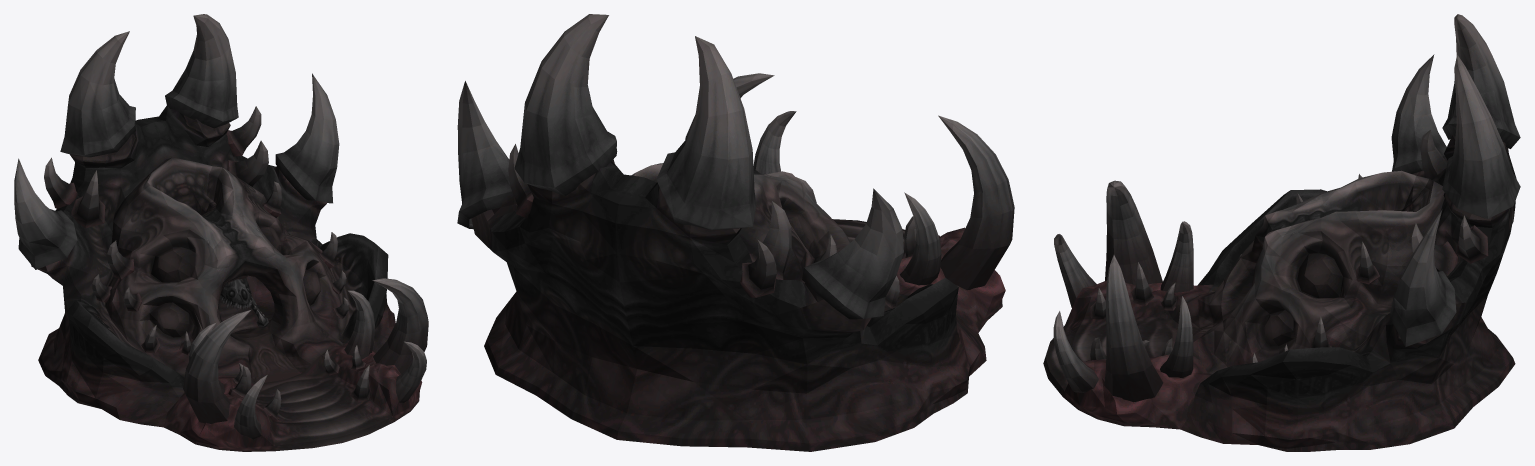
File: Warren.obj
3 views of the same model, side by side, from view 1: azimuth 30°, elevation 25°; view 2: azimuth 150°, elevation 25°; view 3: azimuth 270°, elevation 25° (orthographic). The views are drawn at different scales.
Parts seen in each view (by area): view 1: SoA_Roach_Warren.m3.001; view 2: SoA_Roach_Warren.m3.001; view 3: SoA_Roach_Warren.m3.001.
Boxes of the visible parts, left/top/right/bottom form: SoA_Roach_Warren.m3.001: left=14, top=14, right=428, bottom=451; SoA_Roach_Warren.m3.001: left=457, top=14, right=1014, bottom=451; SoA_Roach_Warren.m3.001: left=1043, top=14, right=1520, bottom=451.
Bounding box in the file's own units: 2.93 × 2.48 × 3.28.
Materials: 2 (2 with a texture image).
